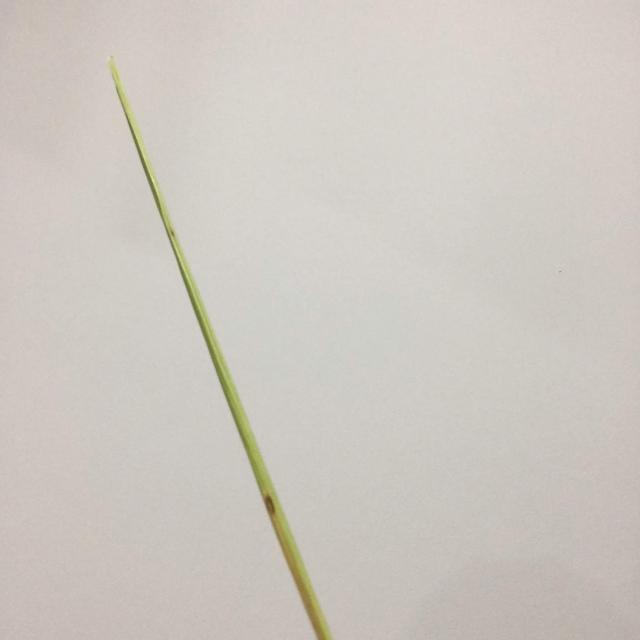Blast: (258, 493, 284, 518)
